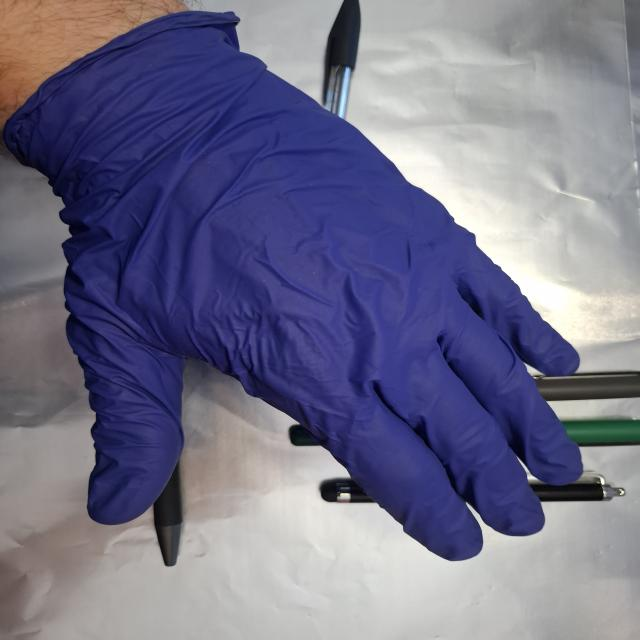glove_on: (27, 8, 588, 564)
